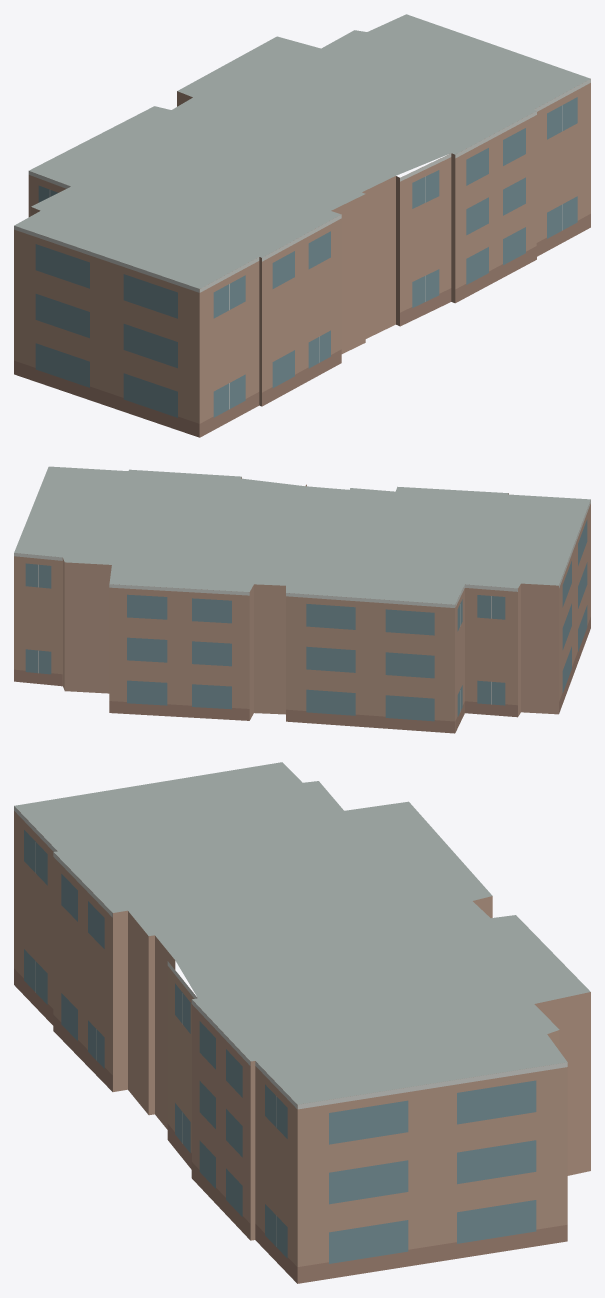
File: survey-upis-32470162.glb
3 renders of one model, top to bottom at view 1: azimuth 30°, elevation 25°; view 2: azimuth 150°, elevation 25°; view 3: azimuth 270°, elevation 25°, orthographic. The views are drawn at different scales.
Parts seen in each view (by area): view 1: survey-upis-32470162.tmp; view 2: survey-upis-32470162.tmp; view 3: survey-upis-32470162.tmp.
Part boxes in pixels (x1=…): survey-upis-32470162.tmp: x1=14, y1=14, x2=590, y2=437; survey-upis-32470162.tmp: x1=14, y1=466, x2=590, y2=733; survey-upis-32470162.tmp: x1=14, y1=762, x2=590, y2=1283.
Bounding box in the file's own units: 37.55 × 9.15 × 26.72.
